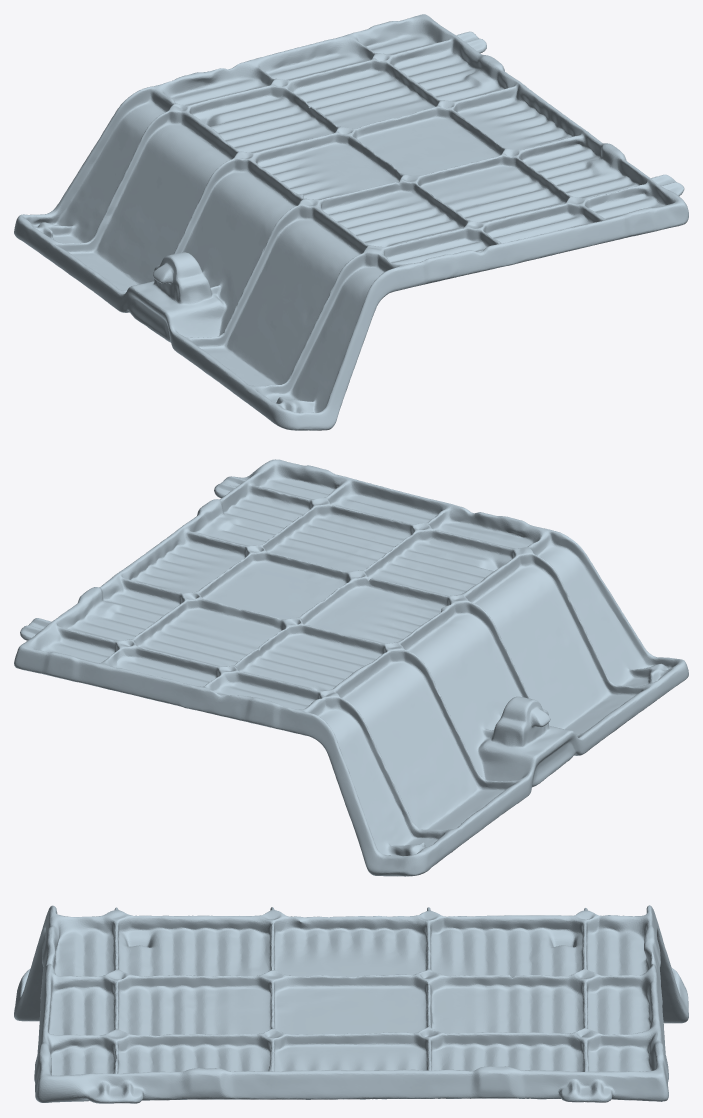
File: prius_tray_web.glb
The picture shows the model from 3 angles, top to bottom: view 1: azimuth 30°, elevation 25°; view 2: azimuth 150°, elevation 25°; view 3: azimuth 270°, elevation 25°; orthographic projection. The views are drawn at different scales.
Visible parts, largest first — view 1: MainModel; view 2: MainModel; view 3: MainModel.
Boxes of the visible parts, left/top/right/bottom form: MainModel: left=14, top=14, right=688, bottom=430; MainModel: left=14, top=459, right=688, bottom=876; MainModel: left=14, top=905, right=688, bottom=1103.
Size of the model in its own units: 4.48 by 1.37 by 5.
